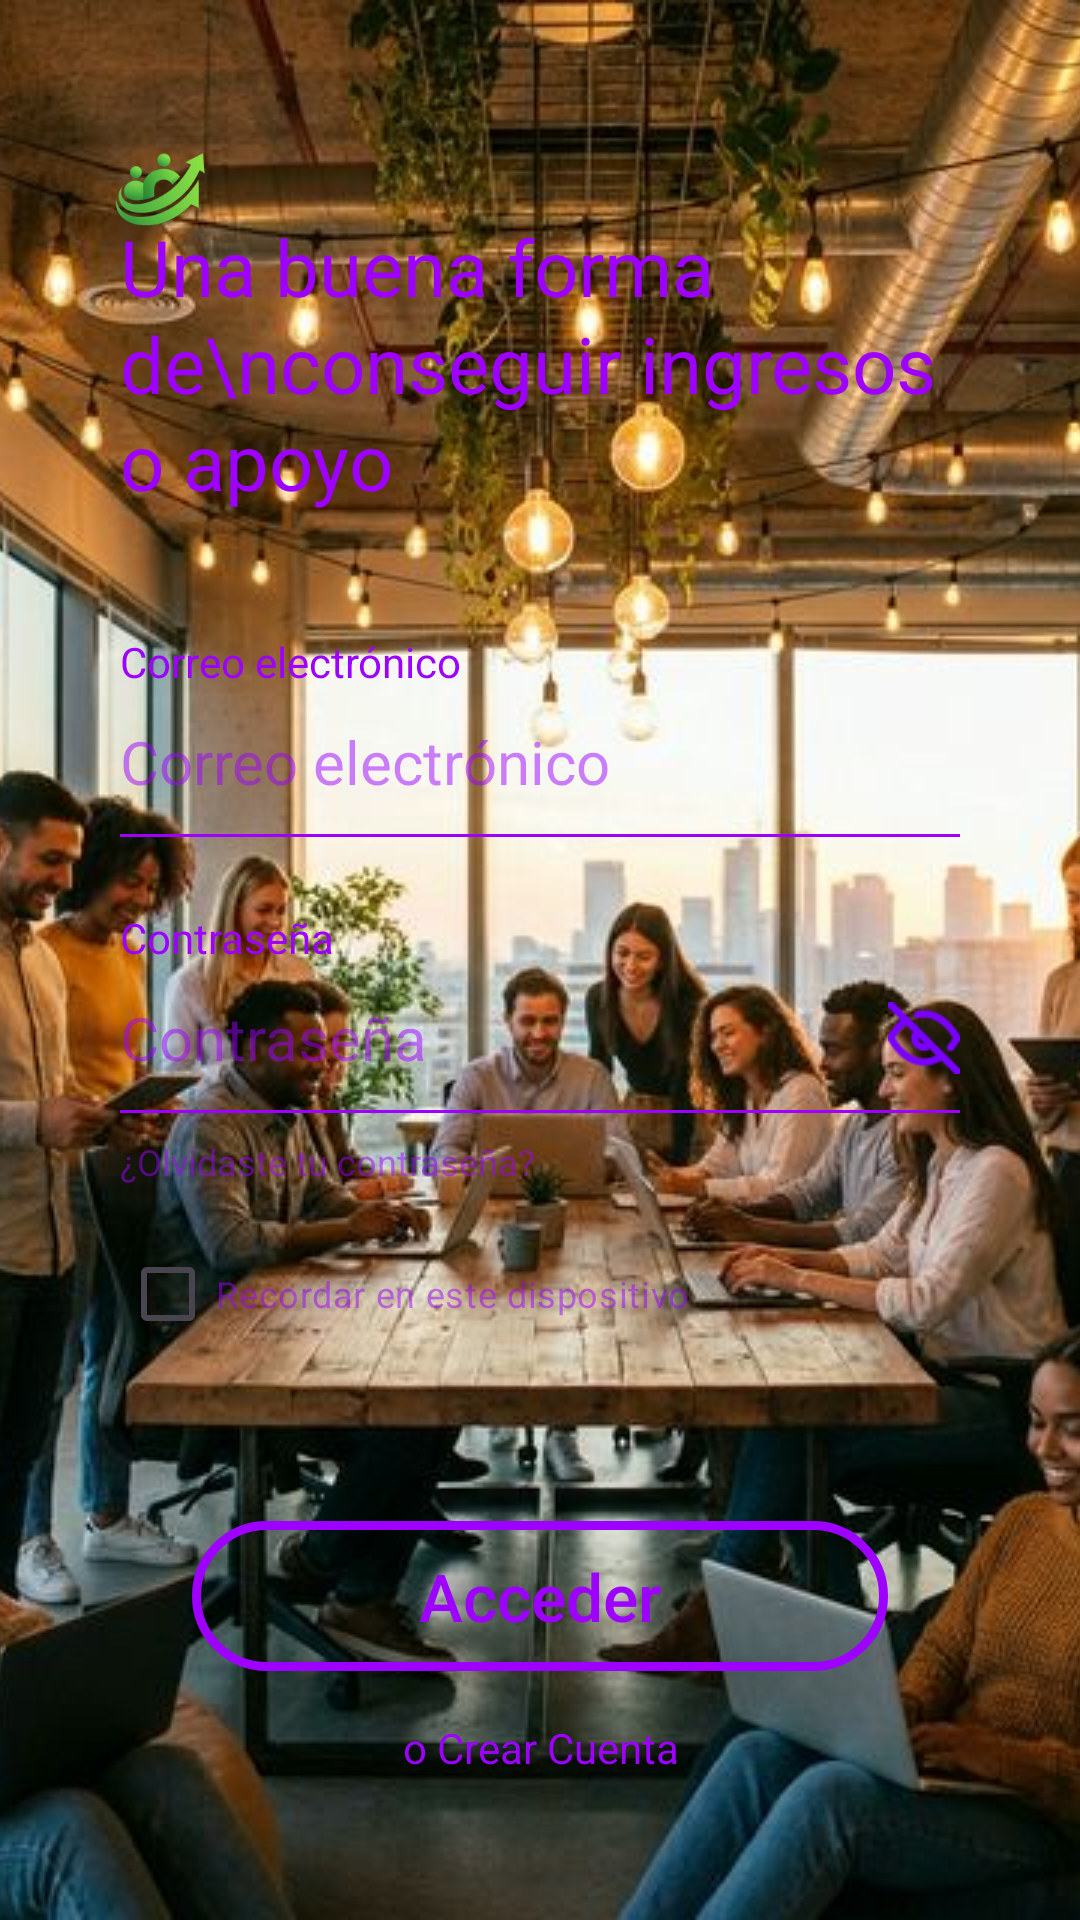

Named icons in this screenshot (1080w x 1920h) and their centers, (x=x, y=y):
Toggle password visibility: (x=924, y=1038)
